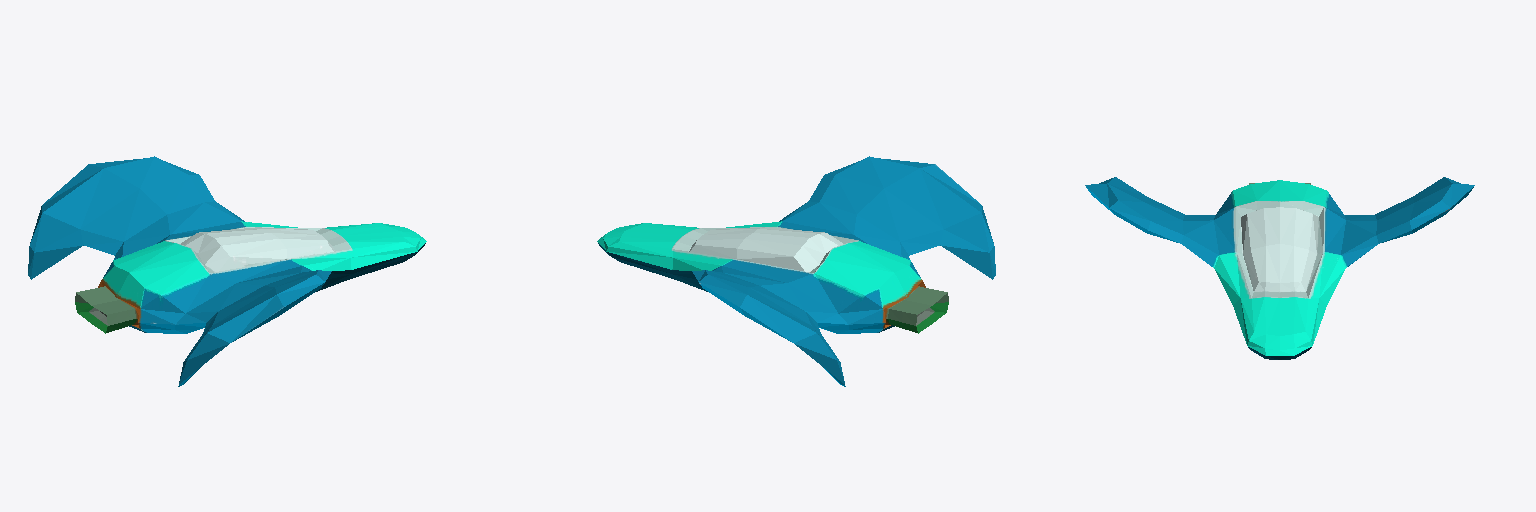
3 renders of one model, left to right at view 1: azimuth 30°, elevation 25°; view 2: azimuth 150°, elevation 25°; view 3: azimuth 270°, elevation 25°, orthographic.
Parts seen in each view (by area): view 1: shipobj:Mesh; view 2: shipobj:Mesh; view 3: shipobj:Mesh.
Part boxes in pixels (left/top/right/bottom): shipobj:Mesh: left=28, top=156, right=426, bottom=386; shipobj:Mesh: left=597, top=156, right=995, bottom=386; shipobj:Mesh: left=1085, top=177, right=1474, bottom=359.
Size of the model in its own units: 6.97 by 1.84 by 7.17.
1 materials, 1 textured.